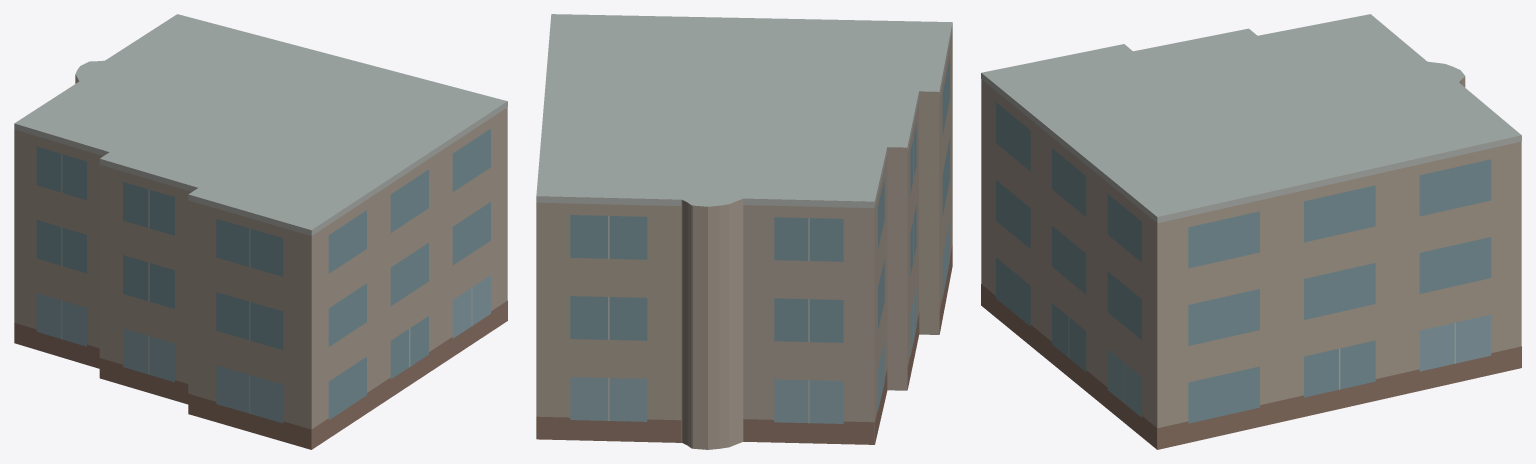
Rendered from survey-upis-32883462.glb.
The picture shows the model from 3 angles, left to right: view 1: azimuth 30°, elevation 25°; view 2: azimuth 150°, elevation 25°; view 3: azimuth 270°, elevation 25°; orthographic projection. The views are drawn at different scales.
Parts seen in each view (by area): view 1: survey-upis-32883462.tmp; view 2: survey-upis-32883462.tmp; view 3: survey-upis-32883462.tmp.
Boxes of the visible parts, x1,y1,x2,y2 form: survey-upis-32883462.tmp: (14, 14, 507, 449); survey-upis-32883462.tmp: (536, 14, 952, 449); survey-upis-32883462.tmp: (981, 14, 1521, 449).
Bounding box in the file's own units: 17.04 × 9.1 × 19.17.
